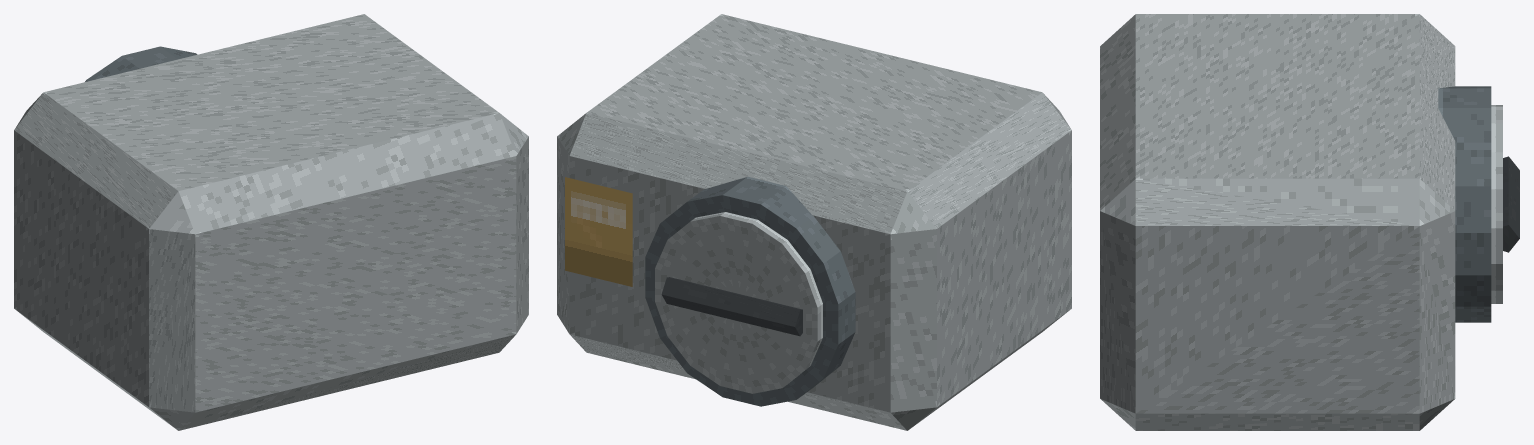
File: autoclave.glb
3 views of the same model, side by side, from view 1: azimuth 30°, elevation 25°; view 2: azimuth 150°, elevation 25°; view 3: azimuth 270°, elevation 25° (orthographic). The views are drawn at different scales.
Visible parts, largest first — view 1: block_autoclave housing, block_round pressure chamber door; view 2: block_autoclave housing, block_round door face, block_round pressure chamber door, block_status panel, block_door latch grip 0; view 3: block_autoclave housing, block_round pressure chamber door, block_round door face, block_door latch grip 0.
Boxes of the visible parts, x1,y1,x2,y2 form: block_autoclave housing: [14, 14, 528, 430]; block_round pressure chamber door: [85, 46, 197, 81]; block_autoclave housing: [557, 14, 1071, 430]; block_round door face: [655, 212, 822, 393]; block_round pressure chamber door: [645, 176, 855, 406]; block_status panel: [565, 177, 632, 286]; block_door latch grip 0: [661, 277, 802, 336]; block_autoclave housing: [1100, 14, 1455, 430]; block_round pressure chamber door: [1438, 86, 1491, 322]; block_round door face: [1491, 105, 1502, 303]; block_door latch grip 0: [1503, 156, 1519, 252].
Size of the model in its own units: 0.809 by 0.4882 by 0.7364.
1 material, 1 textured.
